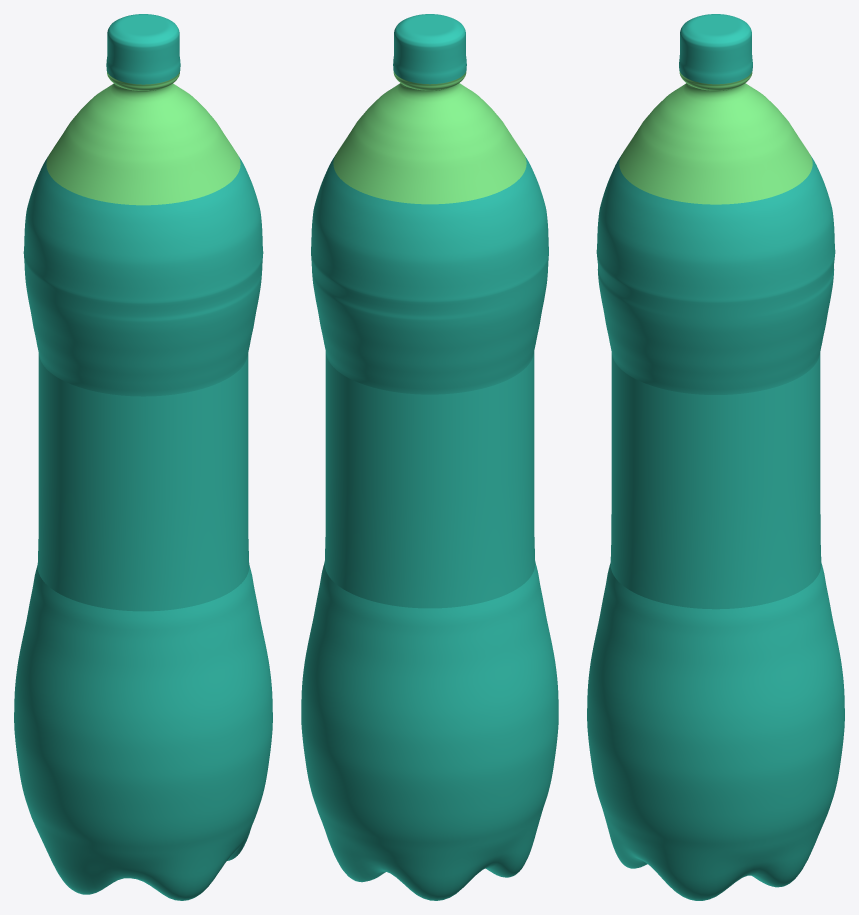
File: pepsi_2_liters_bottle.fbx
The picture shows the model from 3 angles, left to right: view 1: azimuth 30°, elevation 25°; view 2: azimuth 150°, elevation 25°; view 3: azimuth 270°, elevation 25°; orthographic projection.
Parts seen in each view (by area): view 1: Group001, Line5641; view 2: Group001, Line5641; view 3: Group001, Line5641.
Boxes of the visible parts, x1,y1,x2,y2 form: Group001: [14, 14, 272, 900]; Line5641: [46, 72, 240, 205]; Group001: [301, 14, 558, 900]; Line5641: [333, 71, 526, 204]; Group001: [587, 14, 844, 900]; Line5641: [619, 72, 812, 204].
Size of the model in its own units: 0.102 by 0.3672 by 0.102.
